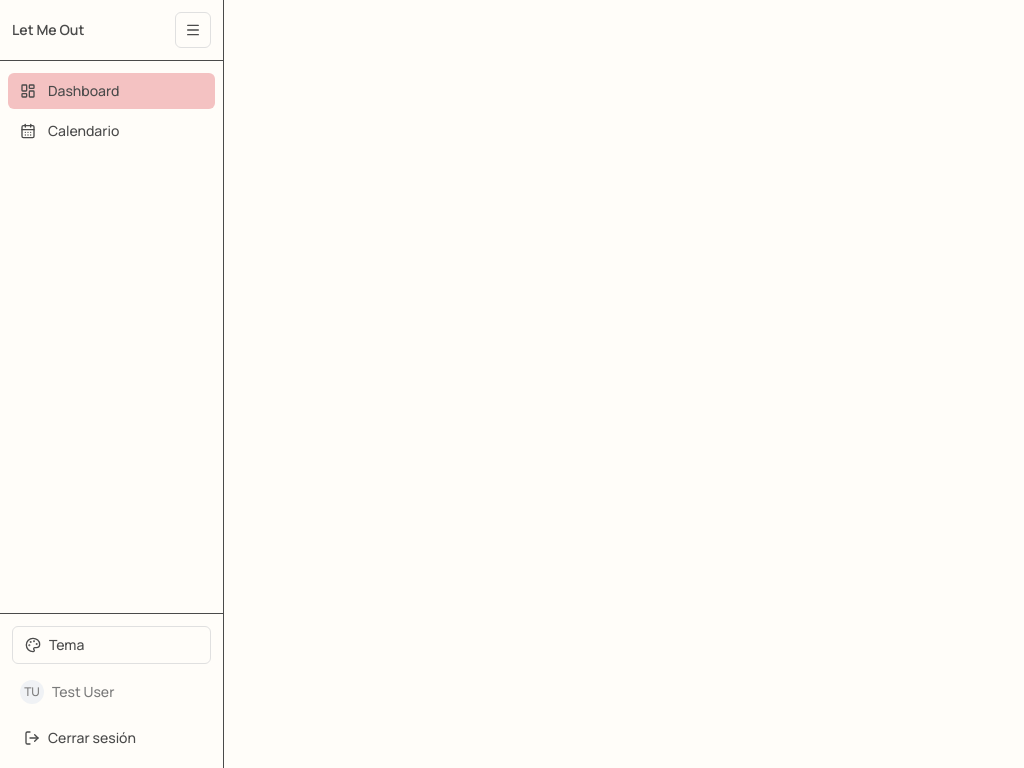
Test: AppSidebar › shows theme button and opens theme dialog
Click the button "Tema" at (112, 645), box [12,626,211,664]
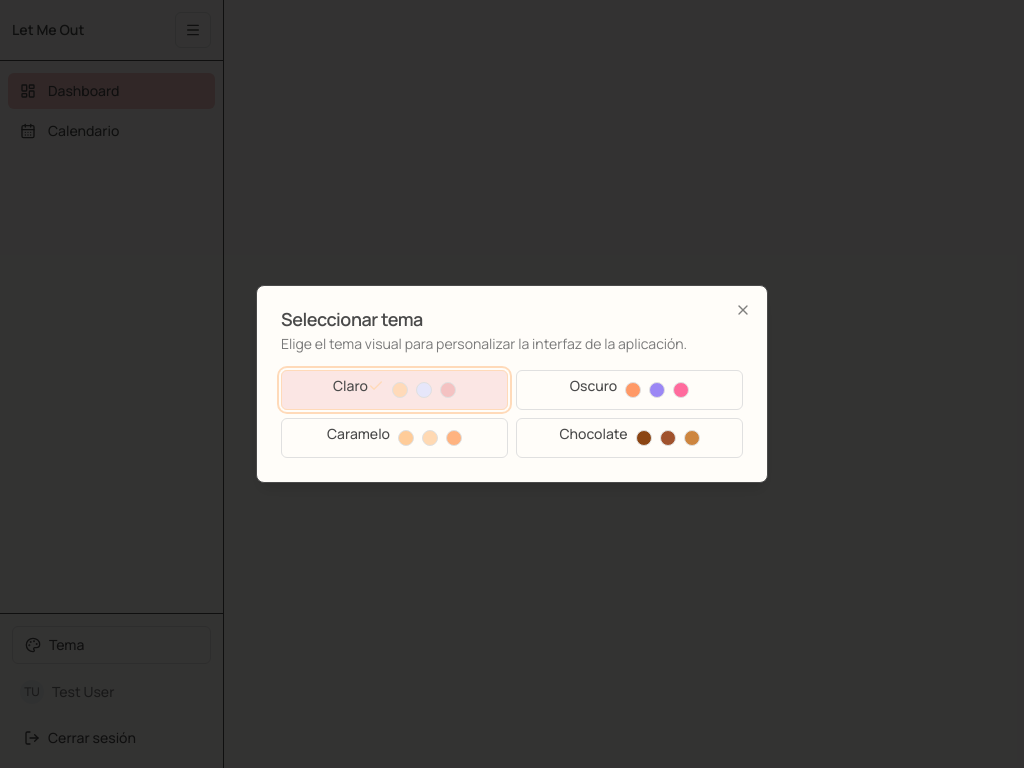
Expected: the heading "Seleccionar tema" is shown, [281,307,423,331]
